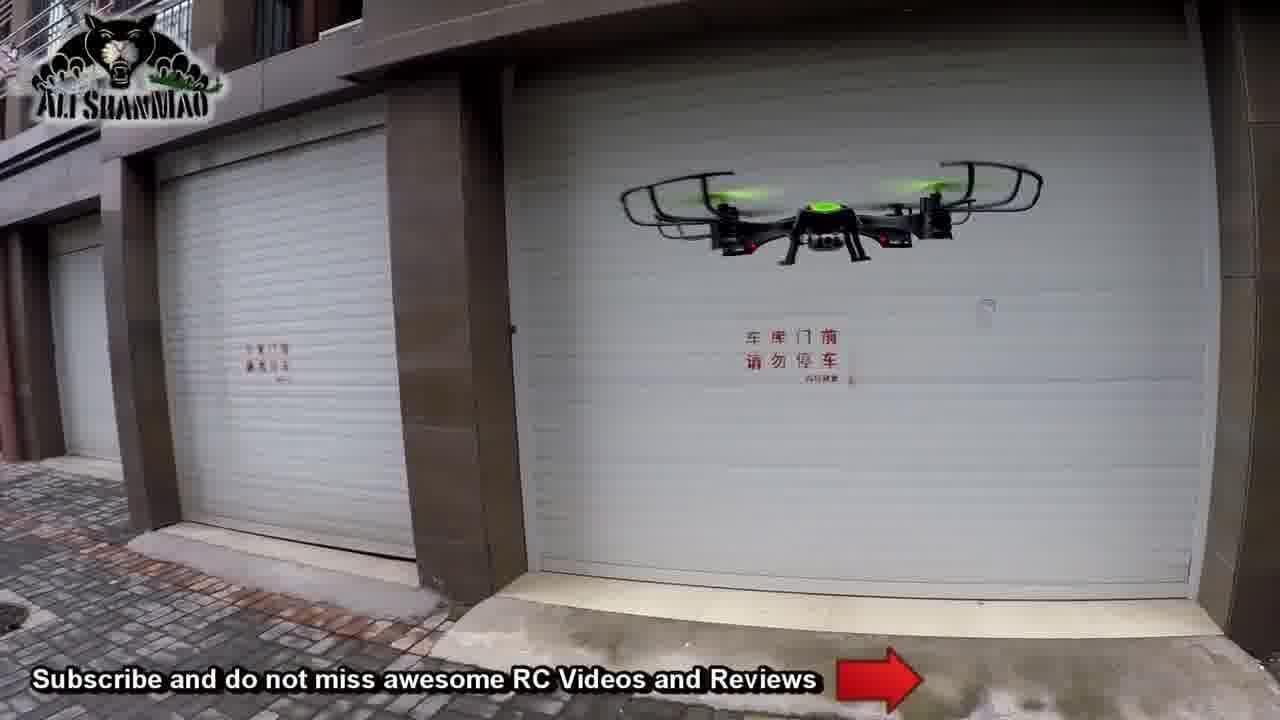drone: (630, 143, 1056, 277)
